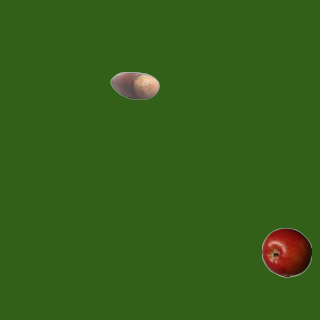Apple Braeburn: (261, 227, 311, 277)
Hazelnut: (109, 60, 159, 110)
